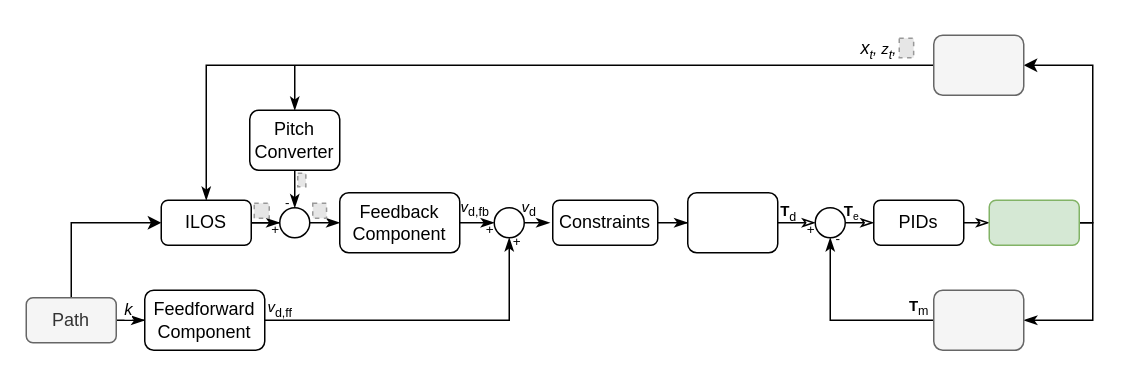
Image size: 1131x377. Some labels were removed from this diagram. Grey dashed boxes stand in for pictures. The shapes that lost their labels are listed below. From the top down, each one's box as (x1, y1, x2, y2) in pixels, then its label:
(932, 34, 1024, 95): Vision system
(686, 191, 778, 253): Tension Converter
(988, 199, 1079, 245): Ribbot
(932, 289, 1024, 350): Force Sensors
